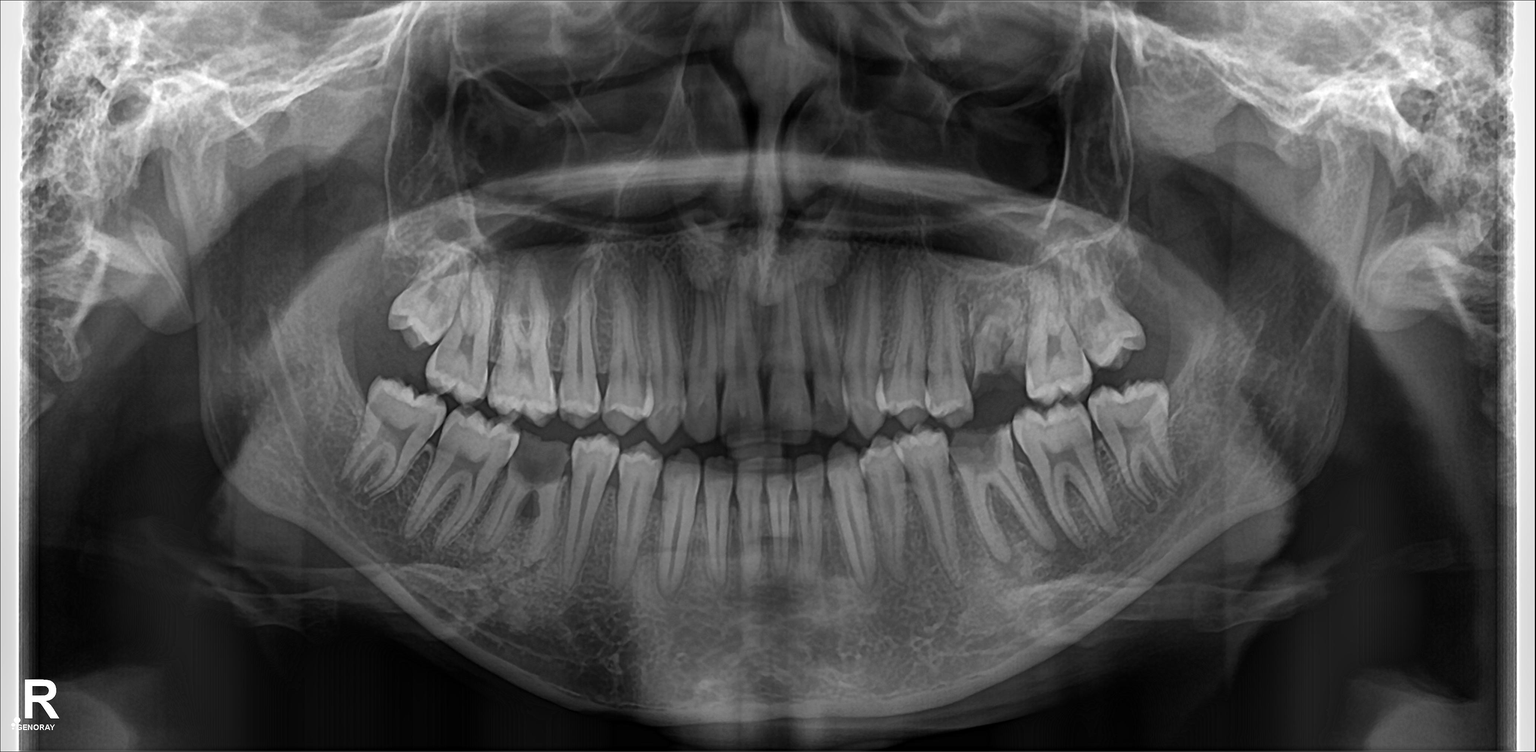Dental Caries: (521, 434, 571, 487), (953, 424, 1001, 471), (993, 329, 1016, 372)
Missing Tooth: (358, 238, 404, 346)
Tooth Fracture: (972, 285, 1028, 393)
